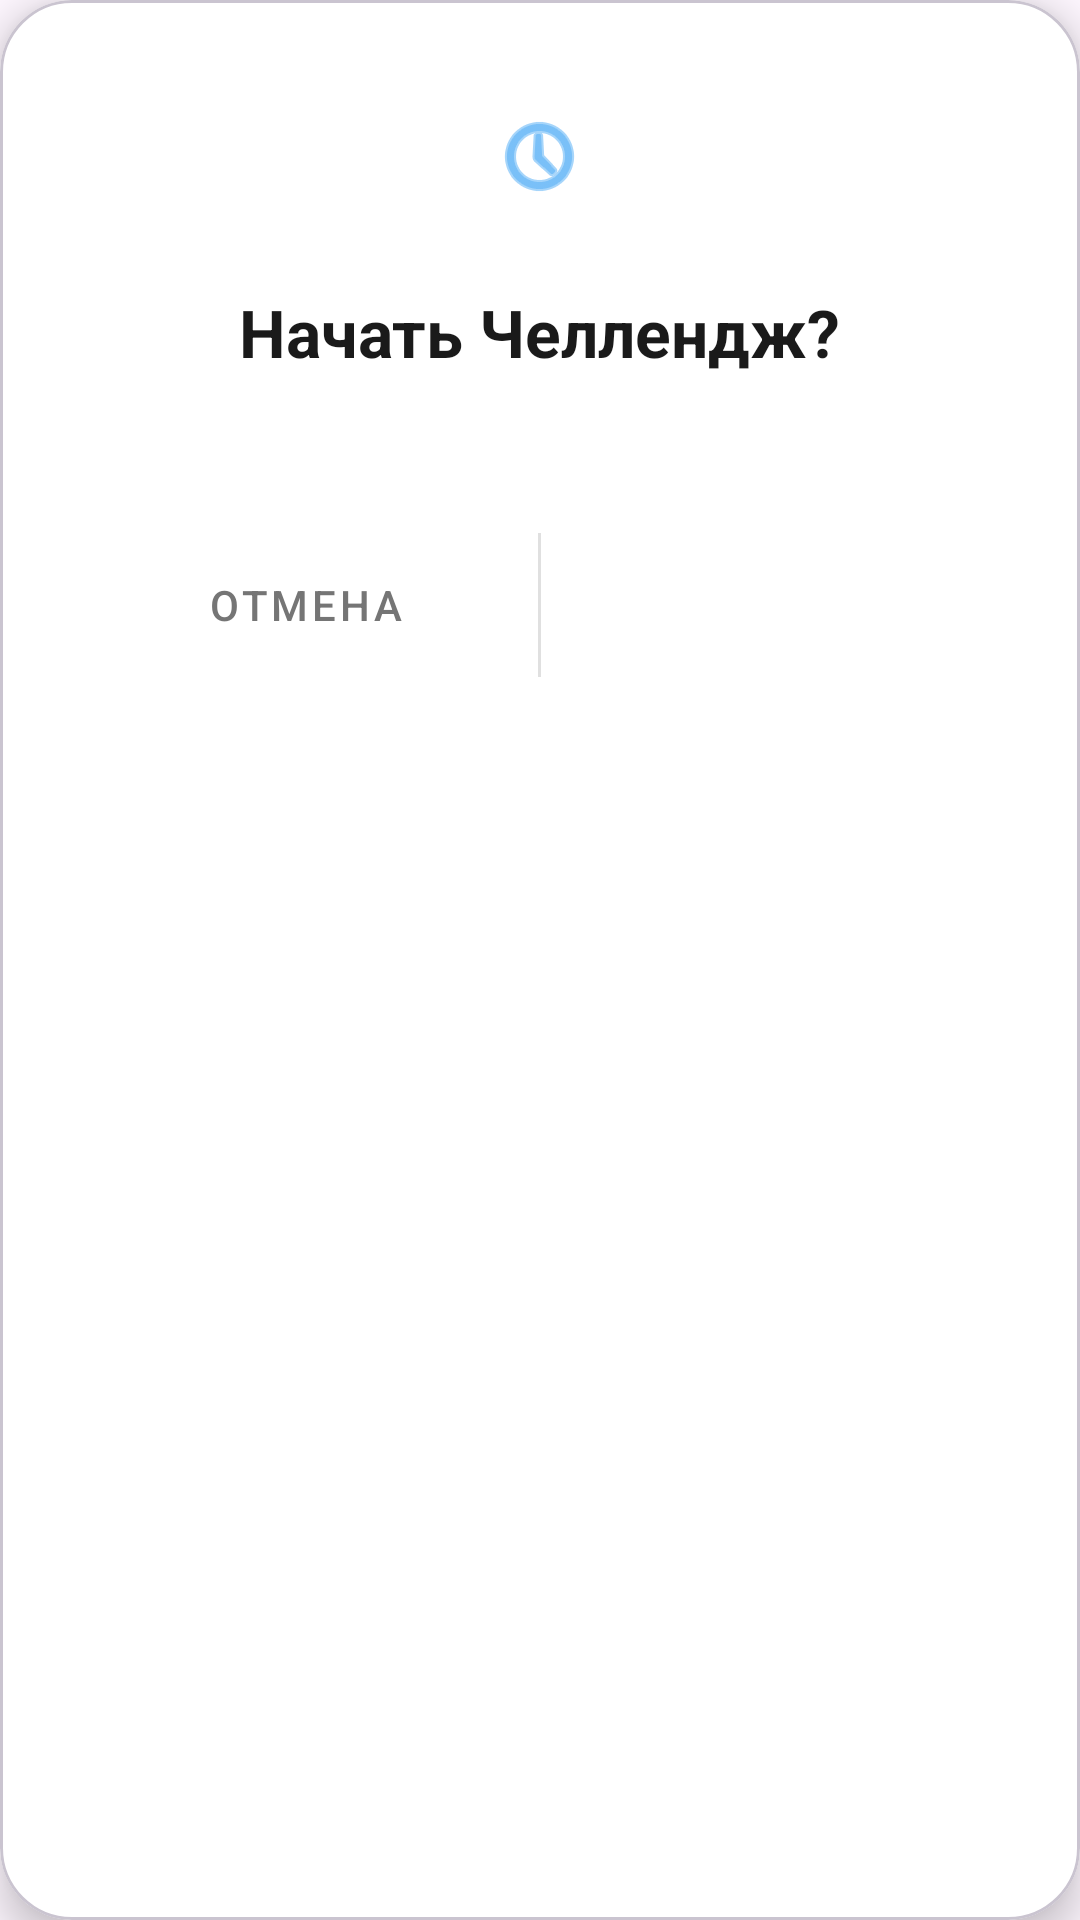

Named icons in this screenshot (1080w x 1920h) and their bounding boxes, bbox=(x1, y1, x2, y2):
recent history: bbox=(505, 122, 574, 191)
